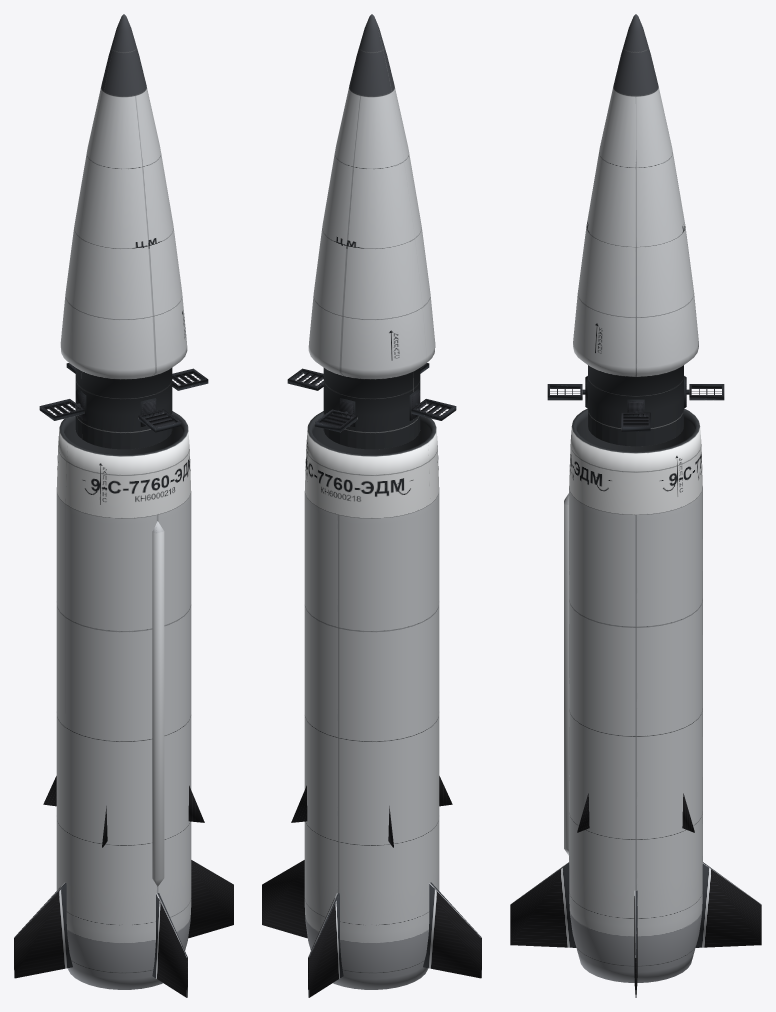
Rendered from Kh47M2_Kinzhal.obj.
3 views of the same model, side by side, from view 1: azimuth 30°, elevation 25°; view 2: azimuth 150°, elevation 25°; view 3: azimuth 270°, elevation 25° (orthographic).
Parts seen in each view (by area): view 1: Kh47M2_Booster, Kh47M2_Warhead, Warhead_Fin_Top, Warhead_Fin_Right, Warhead_Fin_Left; view 2: Kh47M2_Booster, Kh47M2_Warhead, Warhead_Fin_Bottom, Warhead_Fin_Right, Warhead_Fin_Left; view 3: Kh47M2_Booster, Kh47M2_Warhead, Warhead_Fin_Left.
Part boxes in pixels (x1,y1,x2,y2): Kh47M2_Booster: [14, 411, 233, 997]; Kh47M2_Warhead: [60, 14, 187, 449]; Warhead_Fin_Top: [138, 409, 181, 432]; Warhead_Fin_Right: [39, 399, 84, 420]; Warhead_Fin_Left: [172, 368, 208, 390]; Kh47M2_Booster: [262, 411, 481, 997]; Kh47M2_Warhead: [308, 14, 435, 449]; Warhead_Fin_Bottom: [314, 409, 357, 432]; Warhead_Fin_Right: [411, 399, 456, 420]; Warhead_Fin_Left: [287, 368, 323, 390]; Kh47M2_Booster: [510, 408, 761, 997]; Kh47M2_Warhead: [573, 14, 698, 446]; Warhead_Fin_Left: [621, 411, 650, 431].
Size of the model in its own units: 1.88 by 7.8 by 1.88.
